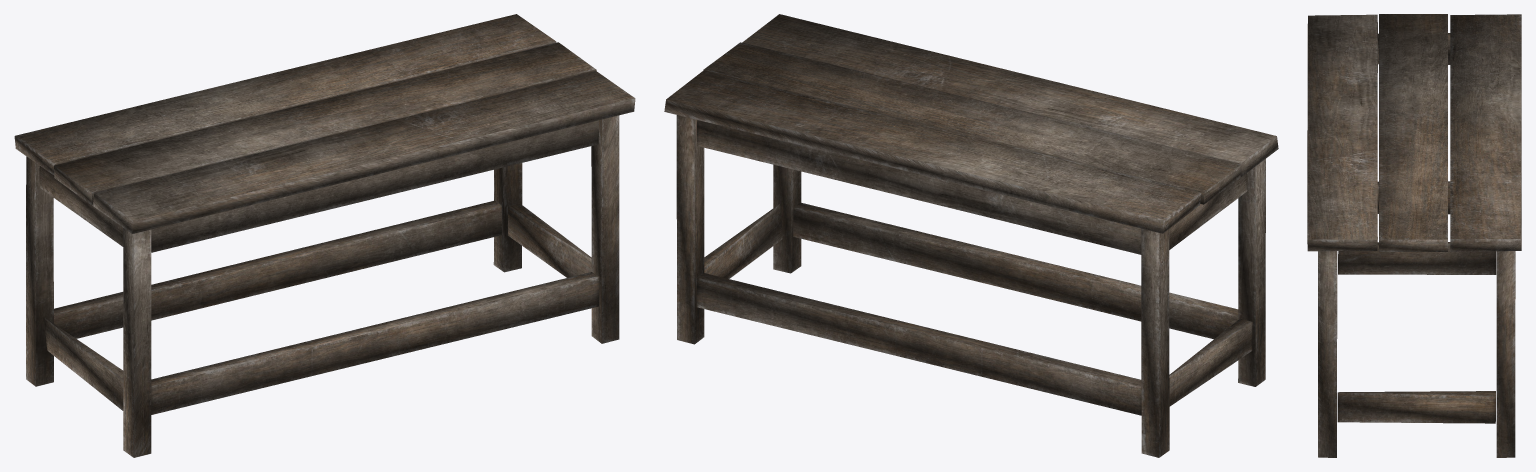
The model's file is Table.fbx.
3 views of the same model, side by side, from view 1: azimuth 30°, elevation 25°; view 2: azimuth 150°, elevation 25°; view 3: azimuth 270°, elevation 25° (orthographic). The views are drawn at different scales.
Visible parts, largest first — view 1: Wooden table; view 2: Wooden table; view 3: Wooden table.
Part boxes in pixels (left/top/right/bottom): Wooden table: left=14, top=14, right=635, bottom=457; Wooden table: left=664, top=14, right=1278, bottom=457; Wooden table: left=1307, top=14, right=1521, bottom=457.
Size of the model in its own units: 159 by 72.94 by 63.61.
1 material, 1 textured.
